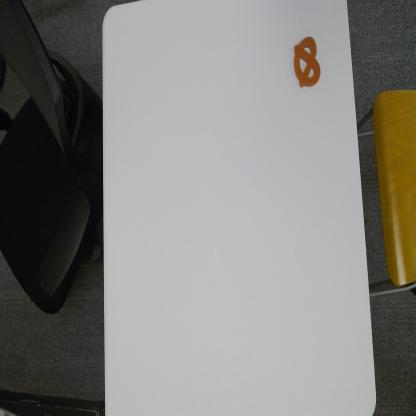Pretzel: (294, 33, 325, 89)
